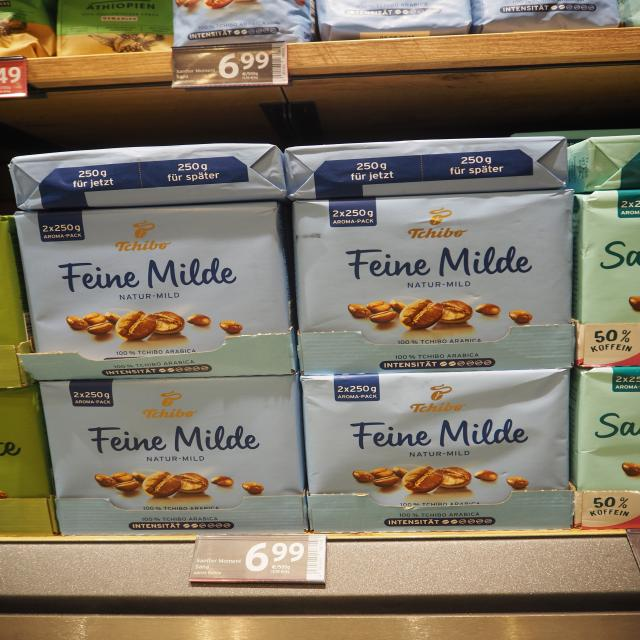FM Gemahlen: (287, 188, 579, 375), (11, 199, 296, 381), (300, 367, 576, 532), (36, 376, 310, 542)
